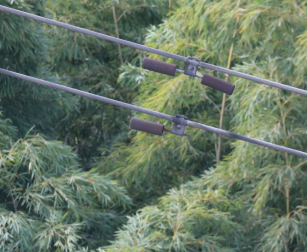damper: (140, 51, 238, 97)
damper_defect: (126, 112, 194, 141)
